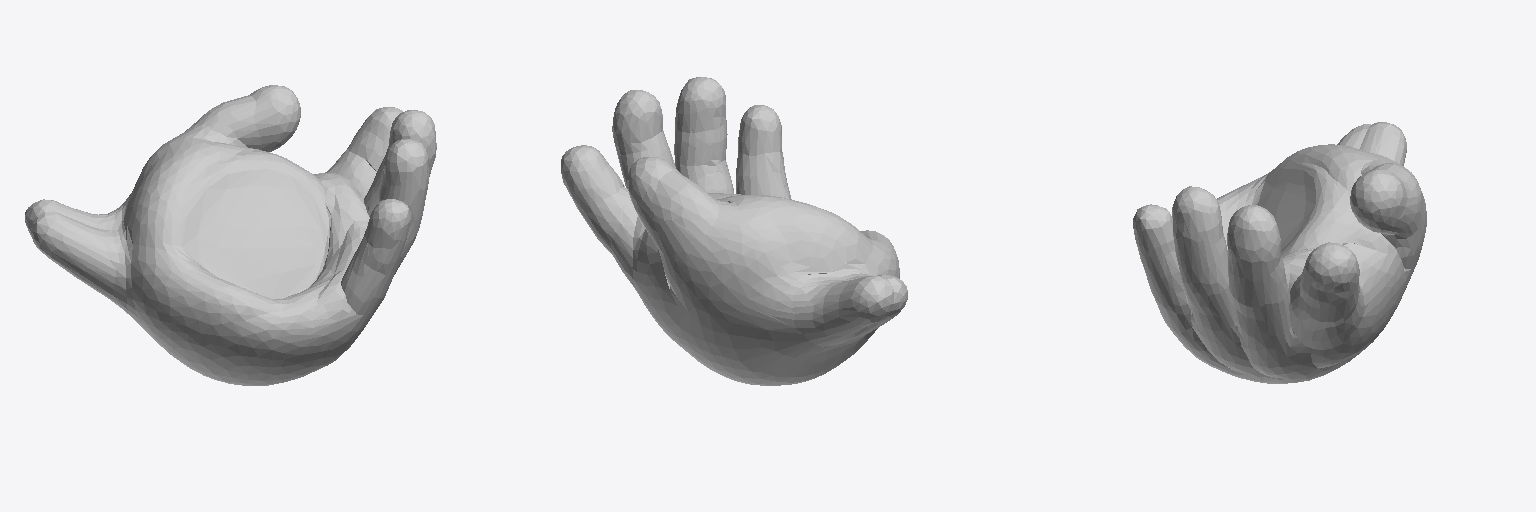
File: GEO_Hand_2k.OBJ
3 renders of one model, left to right at view 1: azimuth 30°, elevation 25°; view 2: azimuth 150°, elevation 25°; view 3: azimuth 270°, elevation 25°, orthographic.
Visible parts, largest first — view 1: Group2076; view 2: Group2076; view 3: Group2076.
Part boxes in pixels (x1,y1,x2,y2): Group2076: (25, 85, 436, 385); Group2076: (561, 77, 907, 385); Group2076: (1133, 122, 1426, 383).
Bounding box in the file's own units: 14.82 × 9.47 × 10.51.